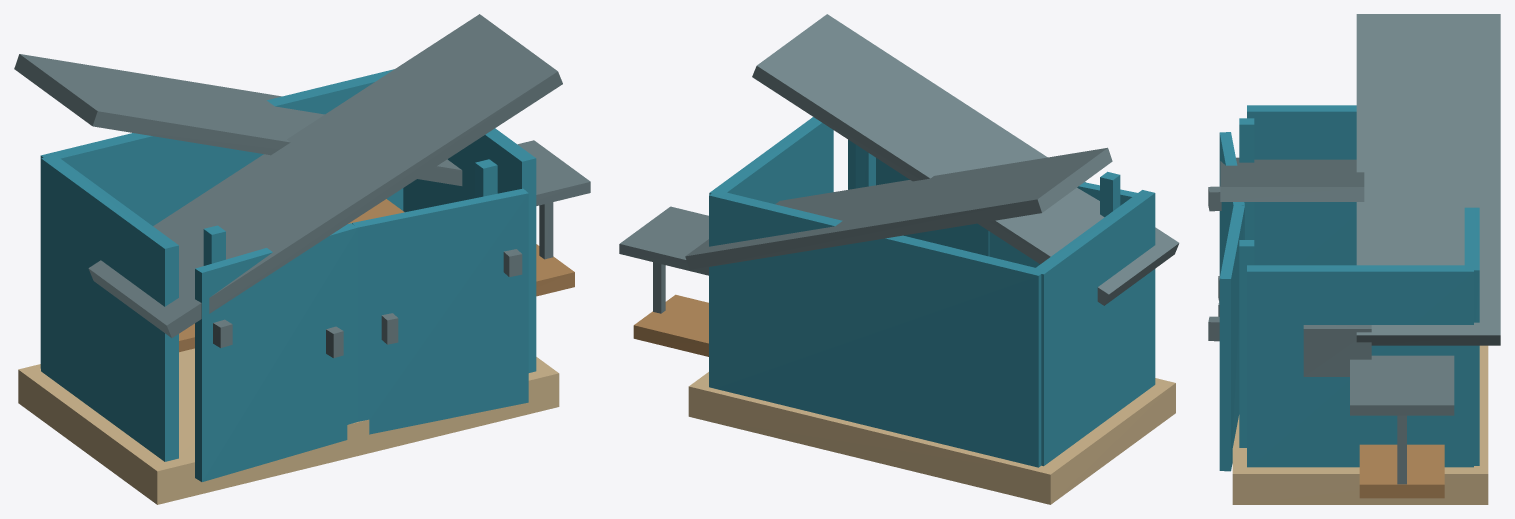
File: storage-shed.source.glb
The picture shows the model from 3 angles, left to right: view 1: azimuth 30°, elevation 25°; view 2: azimuth 150°, elevation 25°; view 3: azimuth 270°, elevation 25°; orthographic projection. The views are drawn at different scales.
Visible parts, largest first — view 1: storage-shed-double-door-panel-mesh (×2), storage-shed-pitched-roof-mesh (×2), storage-shed-side-wall-mesh (×2), storage-shed-stone-curb-mesh, storage-shed-rear-wall-mesh, storage-shed-side-rack-cover-mesh, storage-shed-front-post-mesh (×2), storage-shed-side-rack-shelf-mesh, storage-shed-side-rack-leg-mesh; view 2: storage-shed-rear-wall-mesh, storage-shed-pitched-roof-mesh (×2), storage-shed-side-wall-mesh (×2), storage-shed-stone-curb-mesh, storage-shed-side-rack-cover-mesh, storage-shed-double-door-panel-mesh (×2), storage-shed-side-rack-shelf-mesh, storage-shed-front-post-mesh (×2), storage-shed-side-rack-leg-mesh; view 3: storage-shed-pitched-roof-mesh (×2), storage-shed-side-wall-mesh (×2), storage-shed-stone-curb-mesh, storage-shed-side-rack-cover-mesh, storage-shed-double-door-panel-mesh (×2), storage-shed-side-rack-shelf-mesh, storage-shed-side-vent-mesh, storage-shed-front-post-mesh (×2), storage-shed-rear-wall-mesh, storage-shed-side-rack-leg-mesh, storage-shed-iron-hinge-mesh.
Boxes of the visible parts, x1=… form: storage-shed-double-door-panel-mesh (×2): x1=195, y1=188, x2=528, y2=481; storage-shed-pitched-roof-mesh (×2): x1=14, y1=14, x2=562, y2=337; storage-shed-side-wall-mesh (×2): x1=41, y1=128, x2=536, y2=461; storage-shed-stone-curb-mesh: x1=18, y1=348, x2=559, y2=504; storage-shed-rear-wall-mesh: x1=40, y1=69, x2=403, y2=368; storage-shed-side-rack-cover-mesh: x1=517, y1=140, x2=590, y2=205; storage-shed-front-post-mesh (×2): x1=203, y1=159, x2=497, y2=265; storage-shed-side-rack-shelf-mesh: x1=536, y1=244, x2=574, y2=296; storage-shed-side-rack-leg-mesh: x1=539, y1=202, x2=553, y2=259; storage-shed-rear-wall-mesh: x1=709, y1=190, x2=1045, y2=467; storage-shed-pitched-roof-mesh (×2): x1=685, y1=14, x2=1179, y2=305; storage-shed-side-wall-mesh (×2): x1=709, y1=117, x2=1155, y2=466; storage-shed-stone-curb-mesh: x1=688, y1=372, x2=1175, y2=504; storage-shed-side-rack-cover-mesh: x1=619, y1=206, x2=708, y2=275; storage-shed-double-door-panel-mesh (×2): x1=848, y1=139, x2=1137, y2=267; storage-shed-side-rack-shelf-mesh: x1=633, y1=294, x2=708, y2=356; storage-shed-front-post-mesh (×2): x1=855, y1=145, x2=1120, y2=217; storage-shed-side-rack-leg-mesh: x1=653, y1=262, x2=665, y2=313; storage-shed-pitched-roof-mesh (×2): x1=1220, y1=14, x2=1500, y2=345; storage-shed-side-wall-mesh (×2): x1=1247, y1=105, x2=1473, y2=467; storage-shed-stone-curb-mesh: x1=1232, y1=345, x2=1488, y2=504; storage-shed-side-rack-cover-mesh: x1=1350, y1=355, x2=1454, y2=415; storage-shed-double-door-panel-mesh (×2): x1=1219, y1=132, x2=1244, y2=471; storage-shed-side-rack-shelf-mesh: x1=1359, y1=444, x2=1444, y2=498; storage-shed-side-vent-mesh: x1=1303, y1=325, x2=1371, y2=376; storage-shed-front-post-mesh (×2): x1=1239, y1=118, x2=1254, y2=447; storage-shed-rear-wall-mesh: x1=1464, y1=207, x2=1479, y2=465; storage-shed-side-rack-leg-mesh: x1=1397, y1=415, x2=1406, y2=484; storage-shed-iron-hinge-mesh: x1=1208, y1=186, x2=1221, y2=211.
Size of the model in its own units: 2.79 by 1.83 by 1.54.
